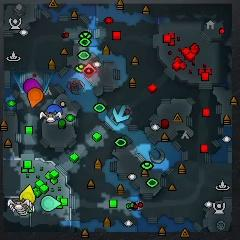Other: (82, 64, 96, 77)
p1: (47, 104, 63, 122)
p2: (42, 195, 62, 211)
p3: (24, 79, 42, 93)
p4: (20, 185, 35, 205)
p5: (28, 88, 43, 109)
x3: (112, 106, 129, 122)
